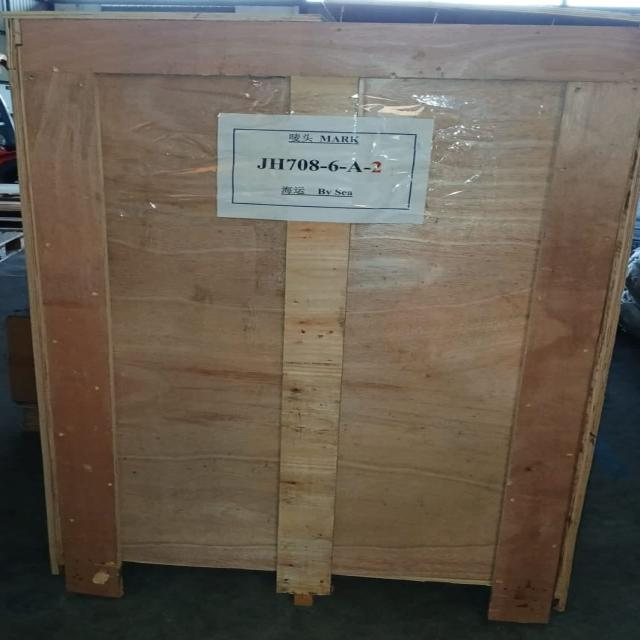export_mark_label: (192, 96, 481, 235)
wooden_box: (0, 3, 639, 617)
